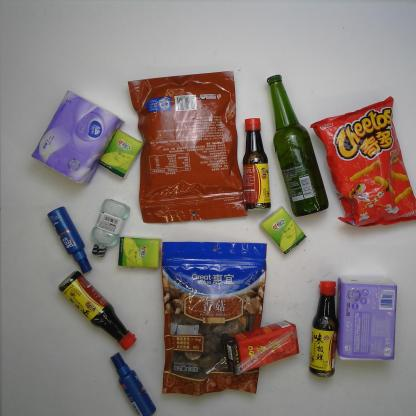Alcohol: (266, 74, 329, 216)
Dried Food: (128, 68, 248, 222), (161, 242, 268, 395)
Drink: (223, 320, 299, 374)
Personal Hygiene: (48, 206, 92, 274), (110, 351, 157, 414), (91, 198, 130, 257)
Puffed Food: (310, 96, 416, 226)
Seasoner: (59, 271, 136, 351), (309, 280, 339, 378), (243, 117, 271, 211)
Tissue: (31, 91, 125, 186), (335, 276, 398, 362), (259, 207, 307, 254), (98, 130, 144, 178), (118, 236, 163, 269)
